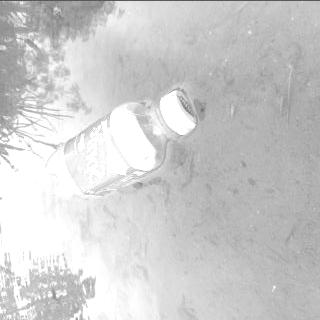bottle: (42, 87, 198, 202)
